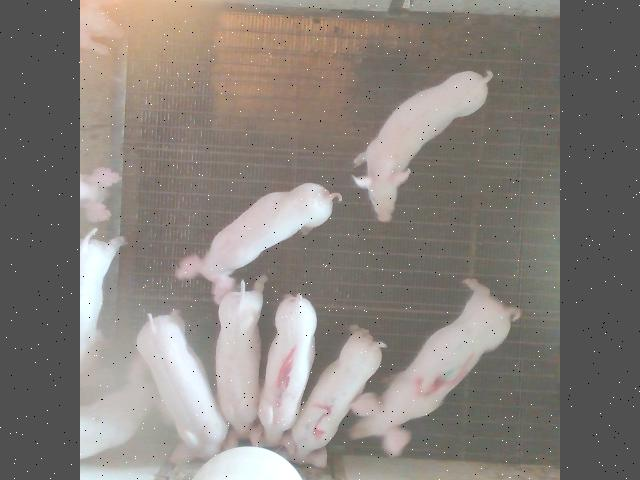pig-1: (259, 292, 316, 445)
pig-3: (350, 278, 520, 455)
pig-5: (278, 325, 385, 464)
